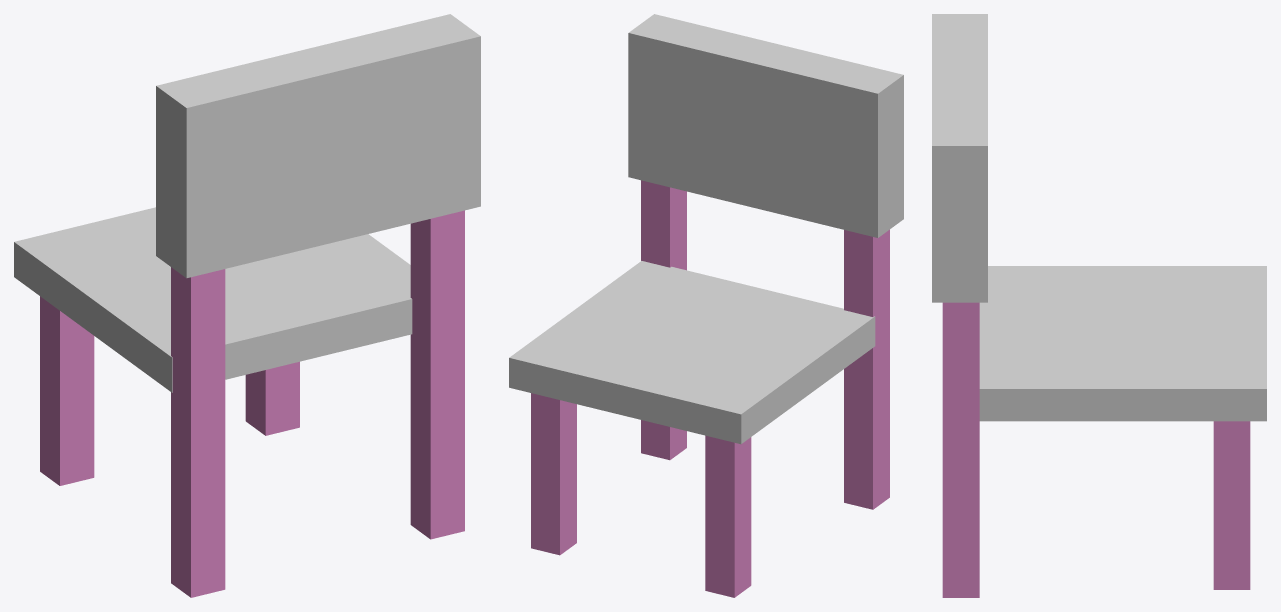
Rendered from a chair 1.fbx.
3 renders of one model, left to right at view 1: azimuth 30°, elevation 25°; view 2: azimuth 150°, elevation 25°; view 3: azimuth 270°, elevation 25°, orthographic. The views are drawn at different scales.
Parts seen in each view (by area): view 1: Cube.004; view 2: Cube.004; view 3: Cube.004.
Part boxes in pixels (bbox=[...]): Cube.004: bbox=[14, 14, 480, 597]; Cube.004: bbox=[509, 14, 903, 597]; Cube.004: bbox=[932, 14, 1266, 597].
Bounding box in the file's own units: 101 × 163 × 108.
